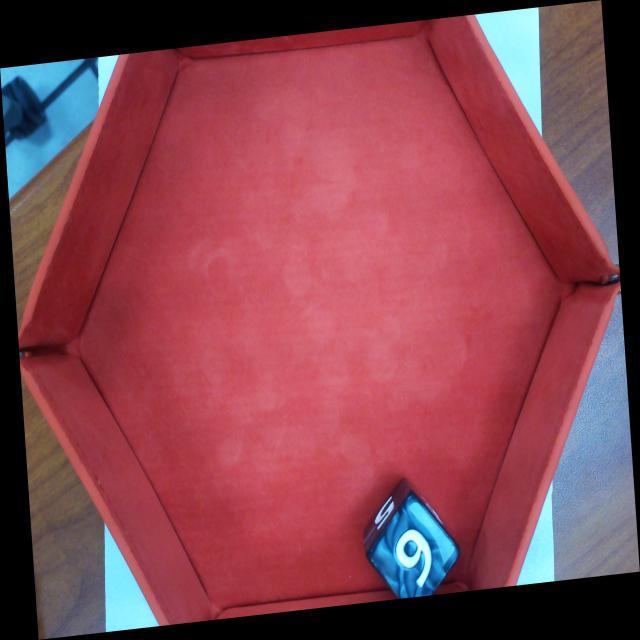dice: (374, 500, 458, 596)
